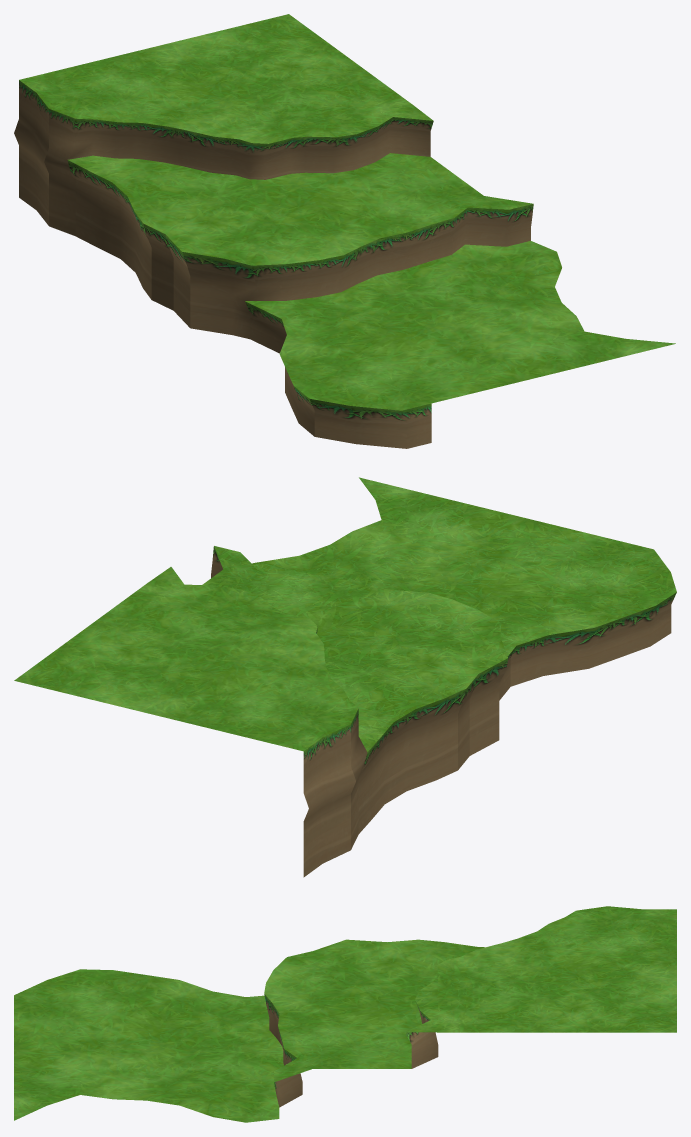
Rendered from Hub_Platform_02.FBX.
3 views of the same model, one above another, from view 1: azimuth 30°, elevation 25°; view 2: azimuth 150°, elevation 25°; view 3: azimuth 270°, elevation 25° (orthographic). The views are drawn at different scales.
Parts seen in each view (by area): view 1: hub_platform_02, hub_platform_02_rock; view 2: hub_platform_02, hub_platform_02_rock; view 3: hub_platform_02, hub_platform_02_rock.
Boxes of the visible parts, bbox=[...] form: hub_platform_02: bbox=[19, 14, 675, 410]; hub_platform_02_rock: bbox=[14, 80, 533, 448]; hub_platform_02: bbox=[14, 477, 676, 751]; hub_platform_02_rock: bbox=[211, 546, 676, 877]; hub_platform_02: bbox=[14, 906, 676, 1122]; hub_platform_02_rock: bbox=[264, 994, 438, 1107].
Size of the model in its own units: 2133 by 3895 by 713.
